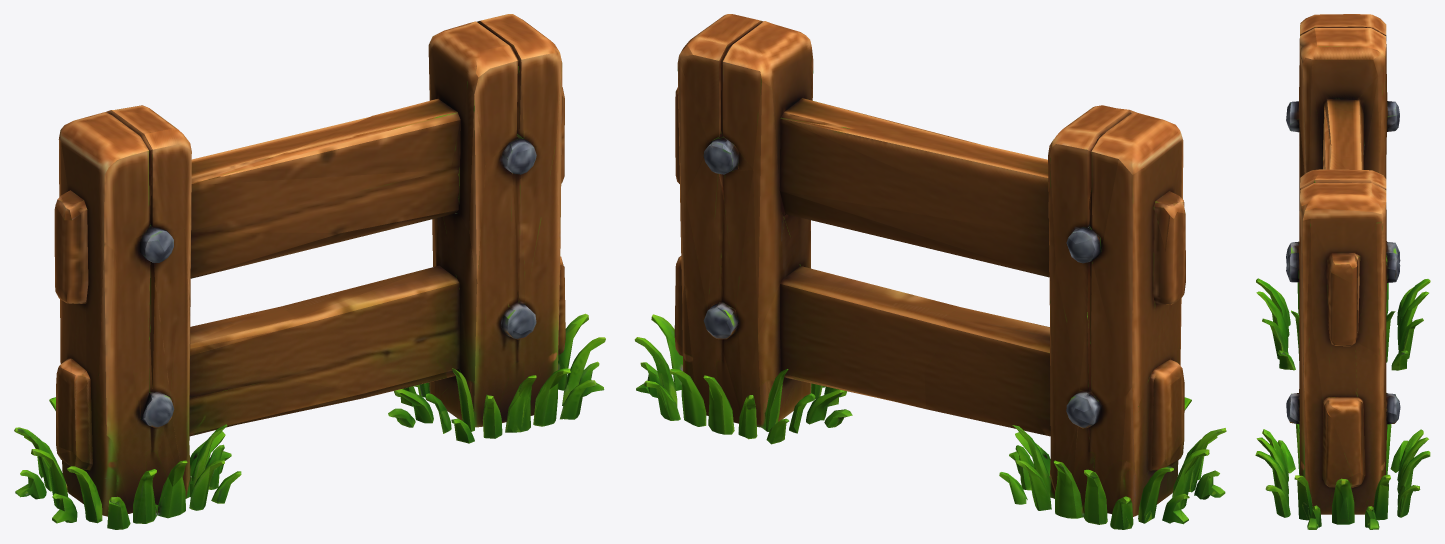
Rendered from fence.glb.
3 views of the same model, side by side, from view 1: azimuth 30°, elevation 25°; view 2: azimuth 150°, elevation 25°; view 3: azimuth 270°, elevation 25° (orthographic). The views are drawn at different scales.
Bounding box in the file's own units: 1.9 × 1.2 × 0.6053.
Materials: 1 (1 with a texture image).
